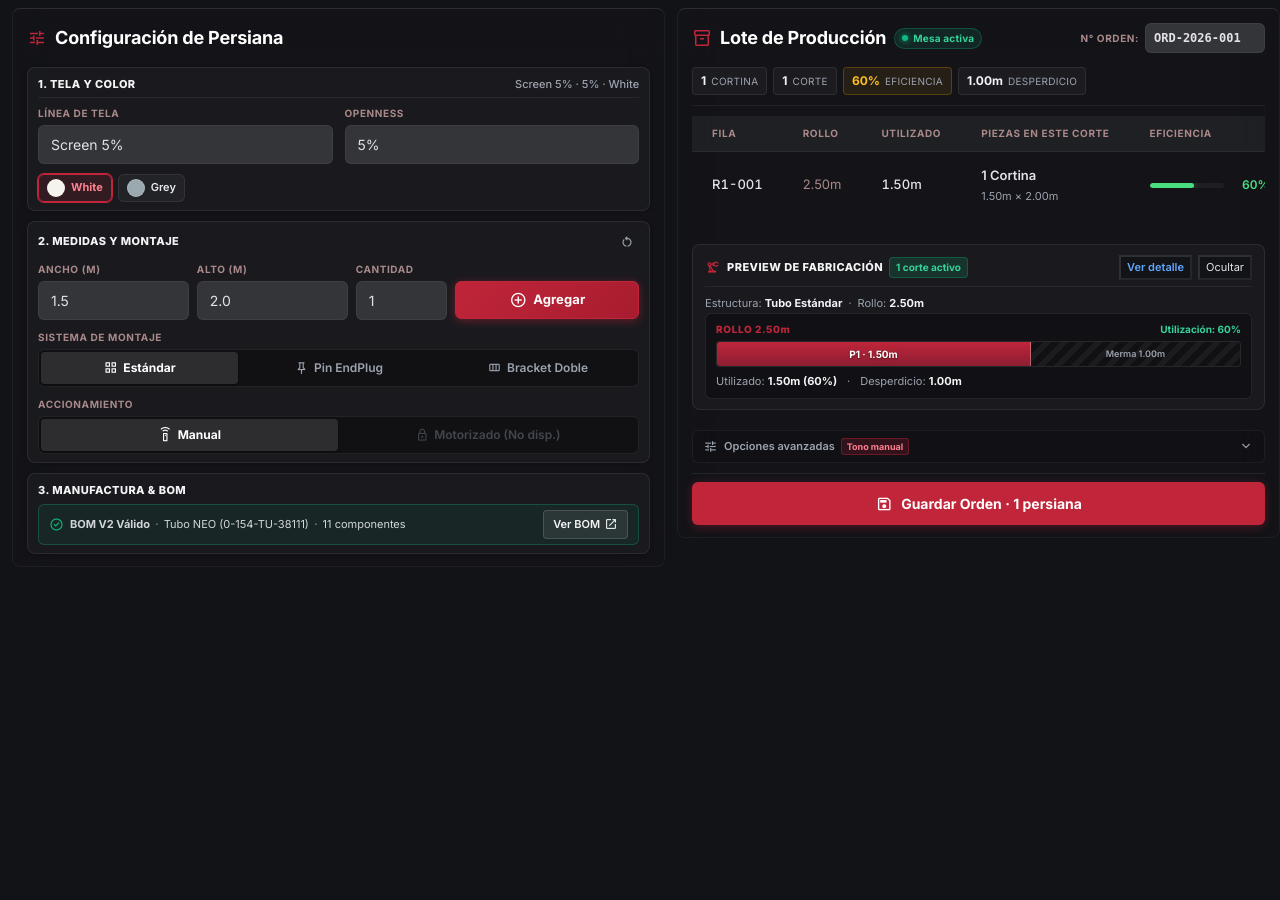
Test: ProductionModuleV2 — Focus Mode & Ergonomics › 5. Acordeón de opciones avanzadas se expande y colapsa correctamente
Expected: the text "Tono de Herrajes" is not shown
Click the text "Opciones avanzadas" at [779, 446], box [724,438,835,454]
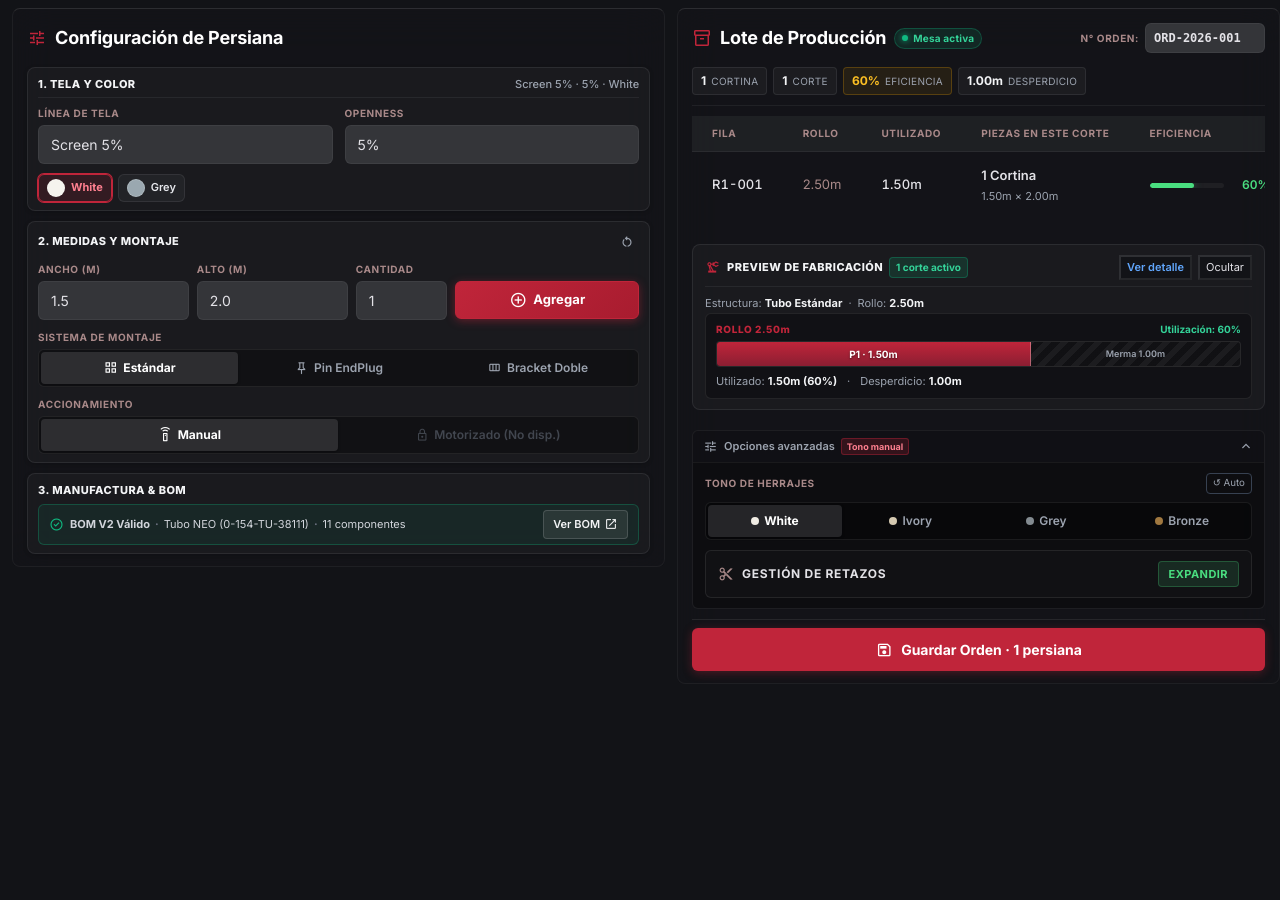
Expected: the text "Tono de Herrajes" is shown, [705,476,815,491]
Click the text "Opciones avanzadas" at [779, 446], box [724,438,835,454]
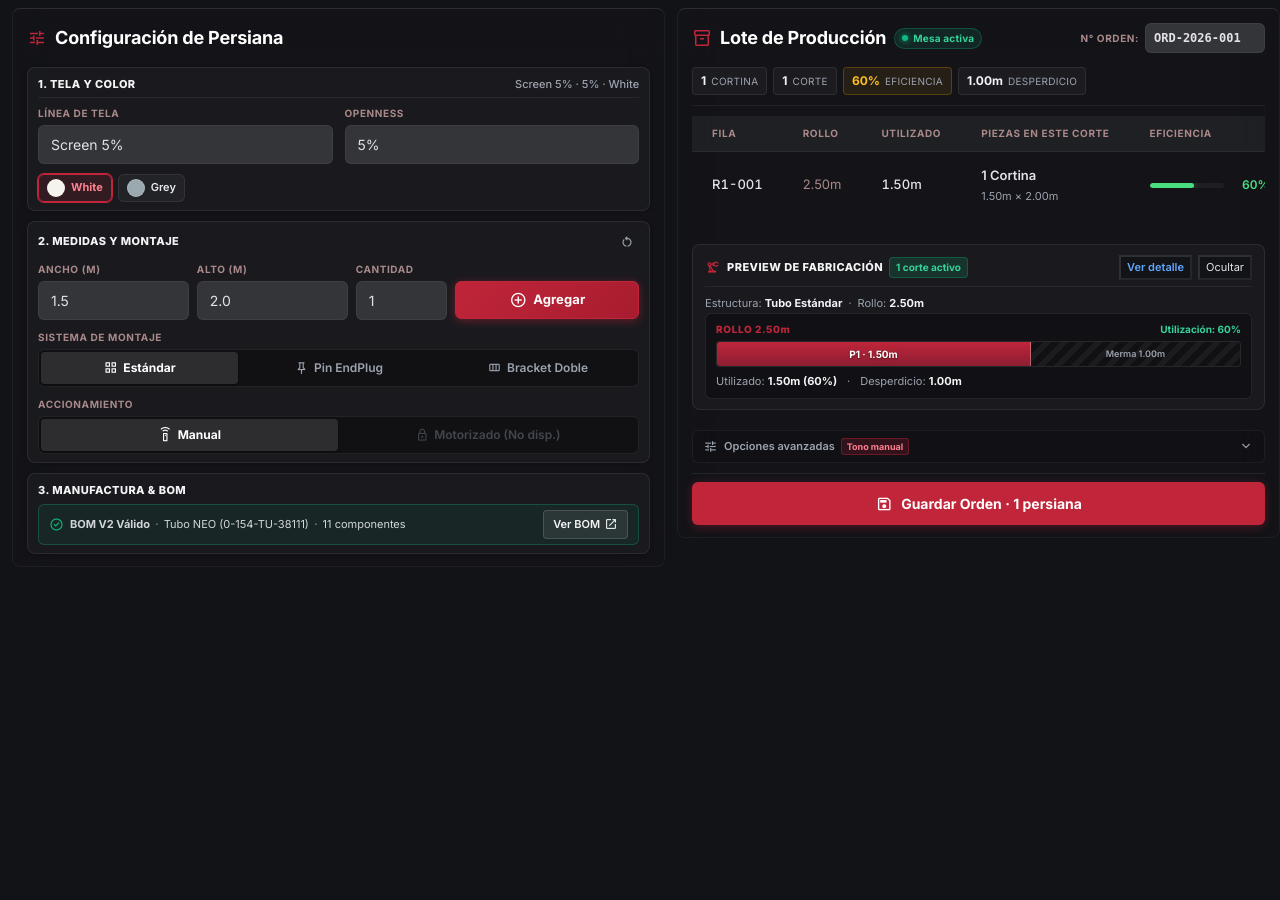
Expected: the text "Tono de Herrajes" is gone
